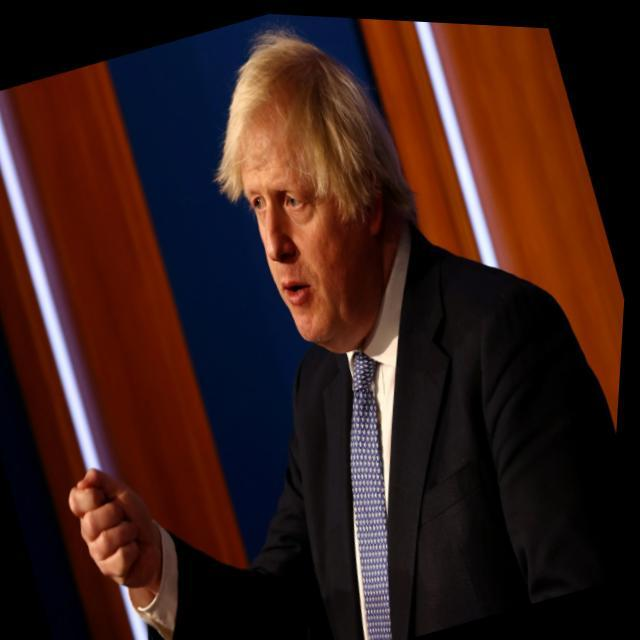Nonhelmet: (203, 22, 399, 356)
